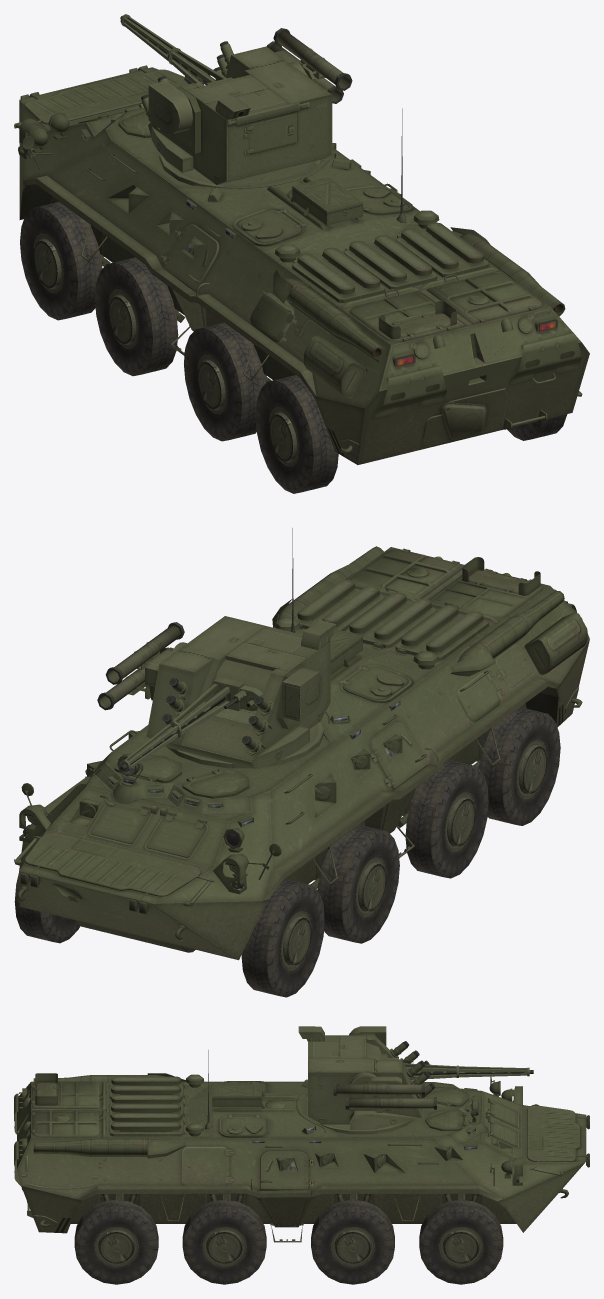
File: btr94.glb
3 views of the same model, one above another, from view 1: azimuth 30°, elevation 25°; view 2: azimuth 150°, elevation 25°; view 3: azimuth 270°, elevation 25° (orthographic). The views are drawn at different scales.
Visible parts, largest first — view 1: default016_24 - Default.001_0, default036.001_turret_0, default017_24 - Default.001_0, default019_24 - Default.001_0, default001_24 - Default.001_0, default040_wheel.001_0, default038_wheel.001_0, default042_wheel.001_0, default044_wheel.001_0, default018_24 - Default.001_0, default010_24 - Default.001_0, default013_24 - Default.001_0 (+8 smaller); view 2: default016_24 - Default.001_0, default036.001_turret_0, default017_24 - Default.001_0, default018_24 - Default.001_0, default019_24 - Default.001_0, default042_wheel.001_0, default040_wheel.001_0, default044_wheel.001_0, default038_wheel.001_0, default001_24 - Default.001_0, default010_24 - Default.001_0, default013_24 - Default.001_0 (+10 smaller); view 3: default016_24 - Default.001_0, default036.001_turret_0, default017_24 - Default.001_0, default019_24 - Default.001_0, default043_wheel.001_0, default041_wheel.001_0, default037_wheel.001_0, default018_24 - Default.001_0, default039_wheel.001_0, default008_24 - Default.001_0, default001_24 - Default.001_0, default009_24 - Default.001_0 (+10 smaller).
Part boxes in pixels (x1,y1,x2,y2): default016_24 - Default.001_0: (19, 67, 589, 464); default036.001_turret_0: (120, 14, 352, 188); default017_24 - Default.001_0: (283, 233, 581, 447); default019_24 - Default.001_0: (208, 152, 582, 455); default001_24 - Default.001_0: (250, 177, 490, 398); default040_wheel.001_0: (94, 257, 178, 376); default038_wheel.001_0: (20, 202, 102, 320); default042_wheel.001_0: (184, 322, 265, 441); default044_wheel.001_0: (255, 375, 338, 493); default018_24 - Default.001_0: (14, 65, 210, 228); default010_24 - Default.001_0: (162, 224, 219, 292); default013_24 - Default.001_0: (232, 208, 303, 246); default016_24 - Default.001_0: (19, 547, 589, 960); default036.001_turret_0: (97, 616, 335, 772); default017_24 - Default.001_0: (277, 546, 576, 664); default018_24 - Default.001_0: (14, 753, 368, 939); default019_24 - Default.001_0: (274, 579, 582, 723); default042_wheel.001_0: (405, 759, 488, 878); default040_wheel.001_0: (317, 825, 399, 943); default044_wheel.001_0: (478, 707, 560, 825); default038_wheel.001_0: (241, 879, 324, 997); default001_24 - Default.001_0: (272, 599, 587, 721); default010_24 - Default.001_0: (370, 722, 427, 790); default013_24 - Default.001_0: (342, 665, 413, 702); default016_24 - Default.001_0: (17, 1081, 586, 1233); default036.001_turret_0: (298, 1026, 533, 1134); default017_24 - Default.001_0: (14, 1073, 168, 1190); default019_24 - Default.001_0: (27, 1074, 325, 1227); default043_wheel.001_0: (74, 1199, 158, 1284); default041_wheel.001_0: (182, 1199, 266, 1284); default037_wheel.001_0: (419, 1199, 503, 1284); default018_24 - Default.001_0: (321, 1076, 589, 1198); default039_wheel.001_0: (311, 1199, 394, 1284); default008_24 - Default.001_0: (260, 1151, 308, 1190); default001_24 - Default.001_0: (147, 1073, 265, 1158); default009_24 - Default.001_0: (256, 1190, 311, 1226).
Size of the model in its own units: 2.91 by 3.2 by 7.7.
Materials: 4 (4 with a texture image).
